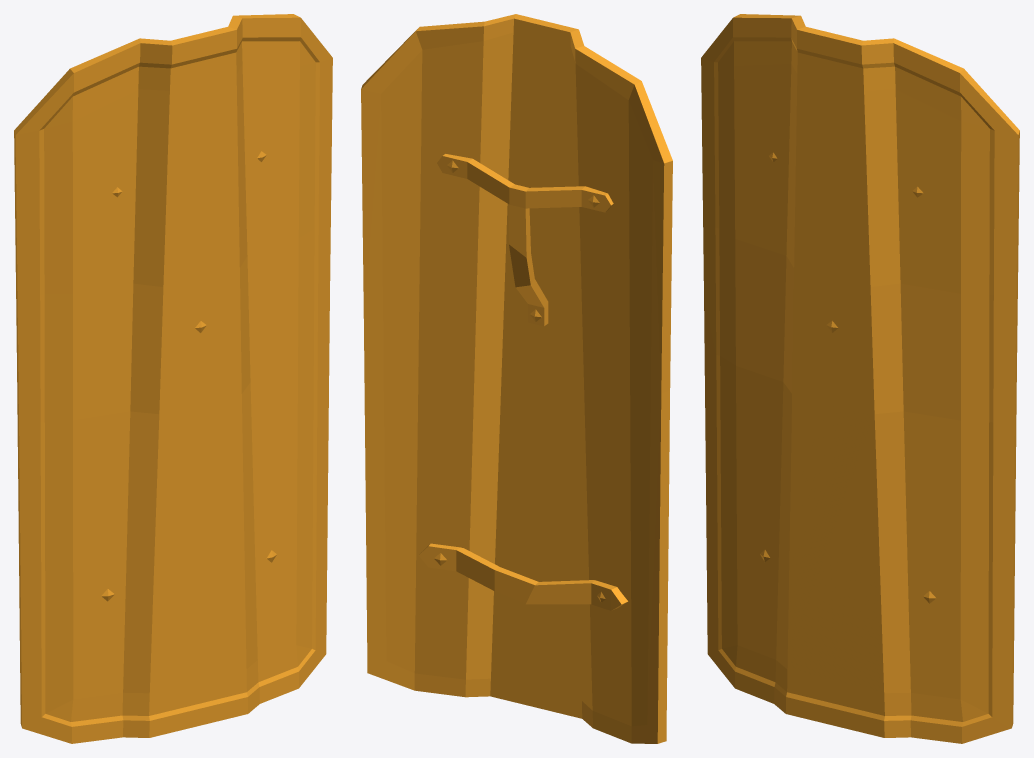
File: SM_Shield_Pavise_D.fbx
The picture shows the model from 3 angles, left to right: view 1: azimuth 30°, elevation 25°; view 2: azimuth 150°, elevation 25°; view 3: azimuth 330°, elevation 25°; orthographic projection. The views are drawn at different scales.
Parts seen in each view (by area): view 1: shield-pavise-d; view 2: shield-pavise-d; view 3: shield-pavise-d.
Boxes of the visible parts, <box> form: shield-pavise-d: <box>14,14,332,743</box>; shield-pavise-d: <box>361,14,672,743</box>; shield-pavise-d: <box>701,14,1019,743</box>.
Size of the model in its own units: 0.7638 by 1.59 by 0.1487.
